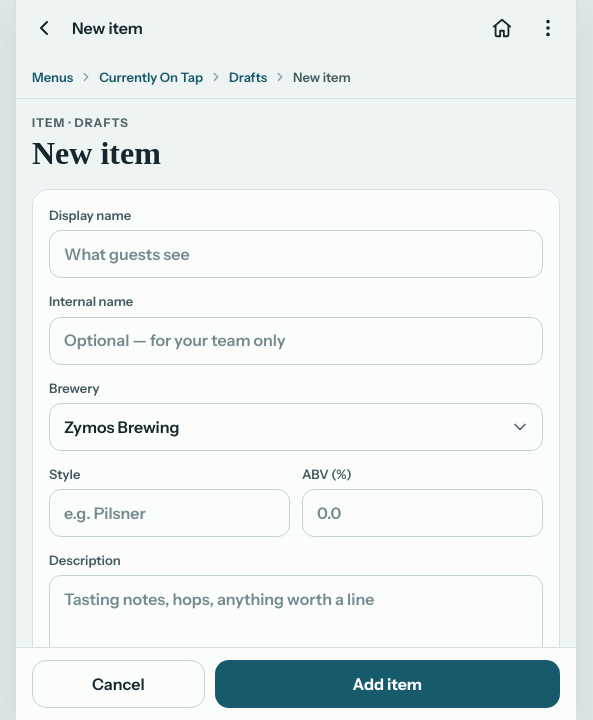
Test: ItemEditorPage: new item › shows a save error and stays on the form
This screenshot has width=593, height=720.
In the field labelled "Display name": point(296, 254) [49,230,543,278], type "Dark Lager"
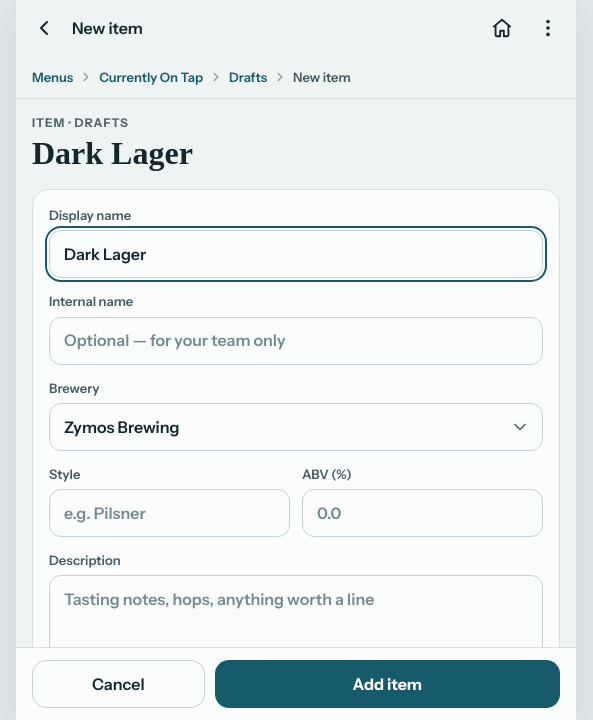
Click the button "Add item": point(387, 684) [215,660,560,708]
(page scrolled)
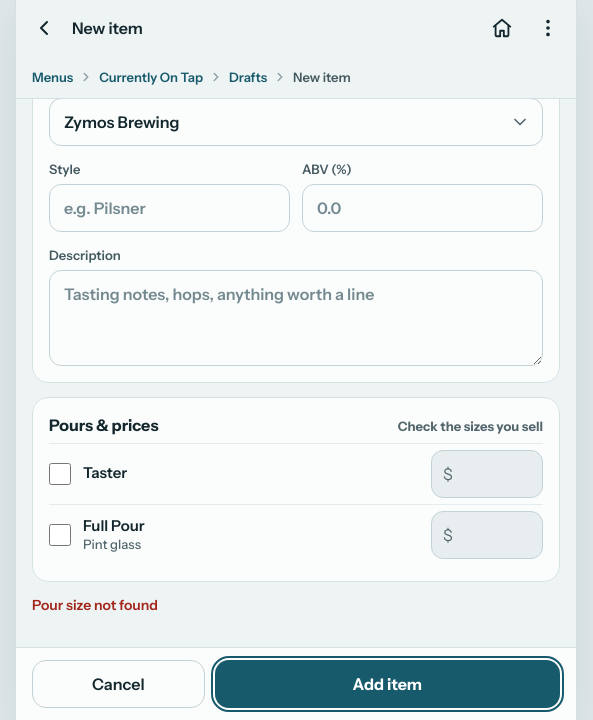
Expected: the message reads "Pour size not found", [32,596,158,614]
